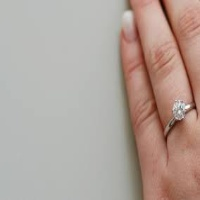ring: (133, 2, 194, 118)
